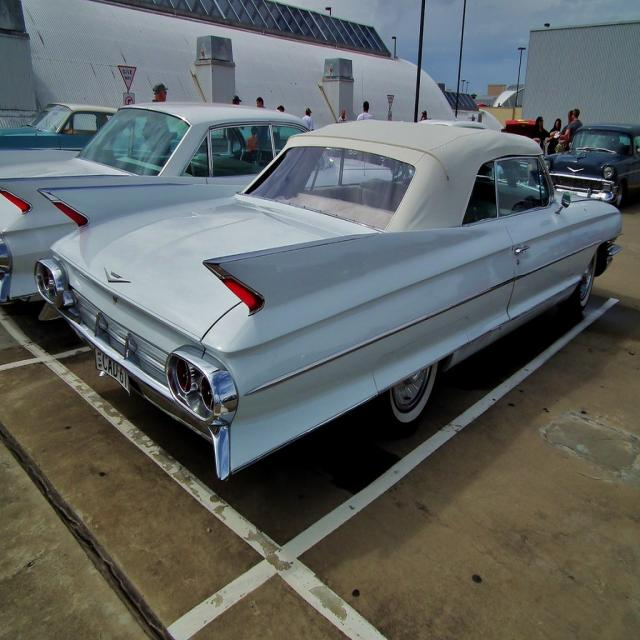car: (33, 123, 623, 436)
